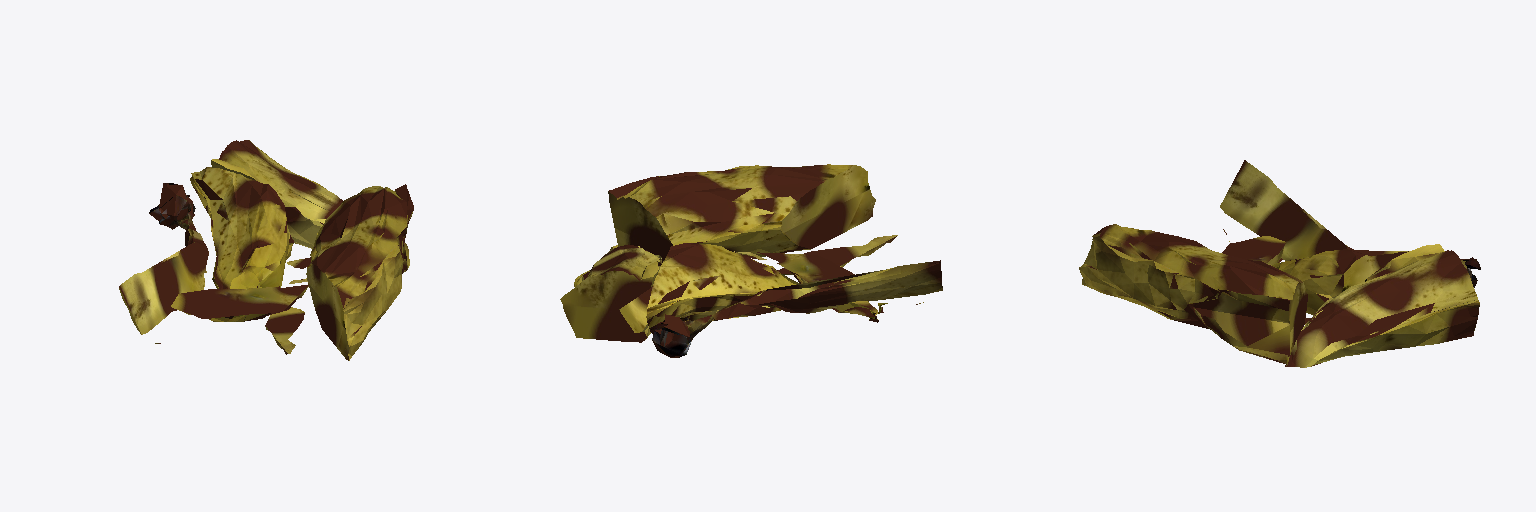
3 views of the same model, side by side, from view 1: azimuth 30°, elevation 25°; view 2: azimuth 150°, elevation 25°; view 3: azimuth 270°, elevation 25° (orthographic).
Visible parts, largest first — view 1: Grilled_Banana_banana; view 2: Grilled_Banana_banana; view 3: Grilled_Banana_banana.
Part boxes in pixels (x1,y1,x2,y2): Grilled_Banana_banana: (119, 140, 413, 360); Grilled_Banana_banana: (560, 164, 942, 357); Grilled_Banana_banana: (1079, 160, 1480, 367).
Bounding box in the file's own units: 0.8642 × 0.2239 × 0.9728.
Materials: 1 (1 with a texture image).